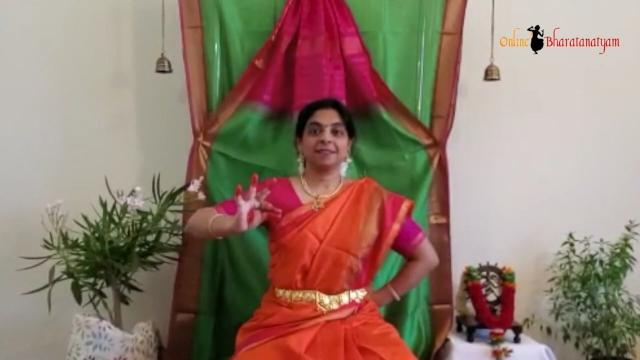hansaasya: (222, 168, 304, 254)
